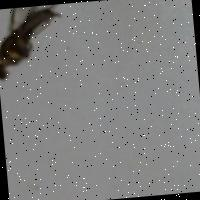Oriental-fruit-fly: (0, 4, 71, 87)
